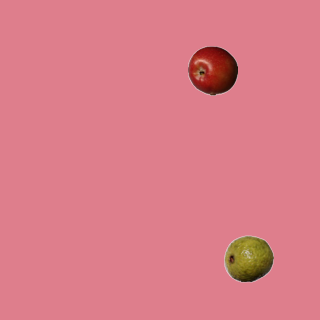Apple Braeburn: (187, 45, 237, 95)
Guava: (223, 233, 273, 283)
